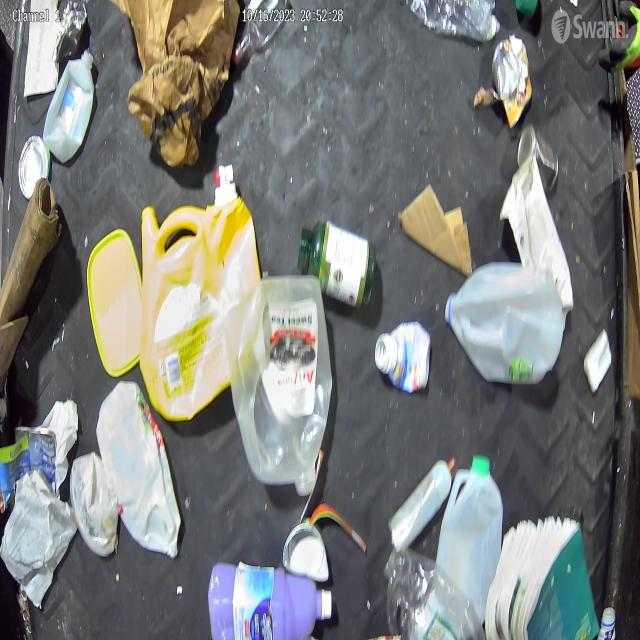can: (491, 35, 533, 129), (282, 516, 330, 582), (517, 122, 559, 194), (19, 135, 51, 200)
milk_jug: (230, 273, 334, 496), (96, 380, 182, 560), (446, 262, 564, 385), (435, 453, 504, 625), (42, 49, 94, 163)
non_white_jug: (140, 164, 261, 422), (385, 541, 487, 640), (210, 562, 332, 640)
plastic_bottle: (409, 0, 501, 41)
